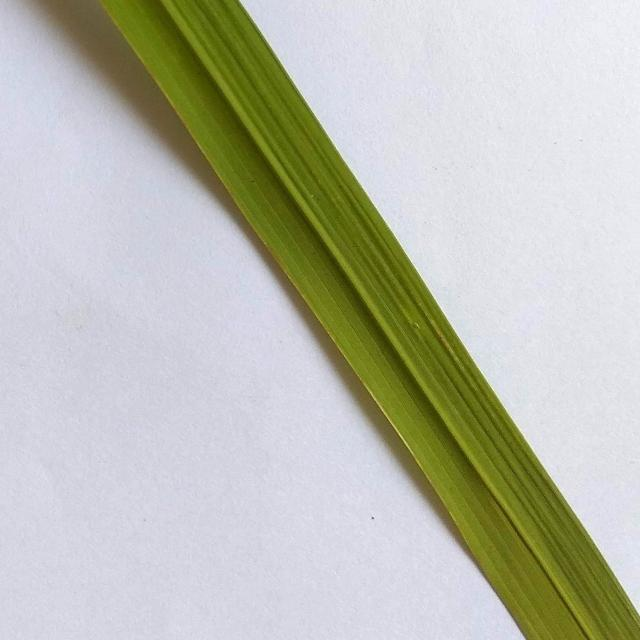Rice_Healthy: (102, 0, 640, 640)
